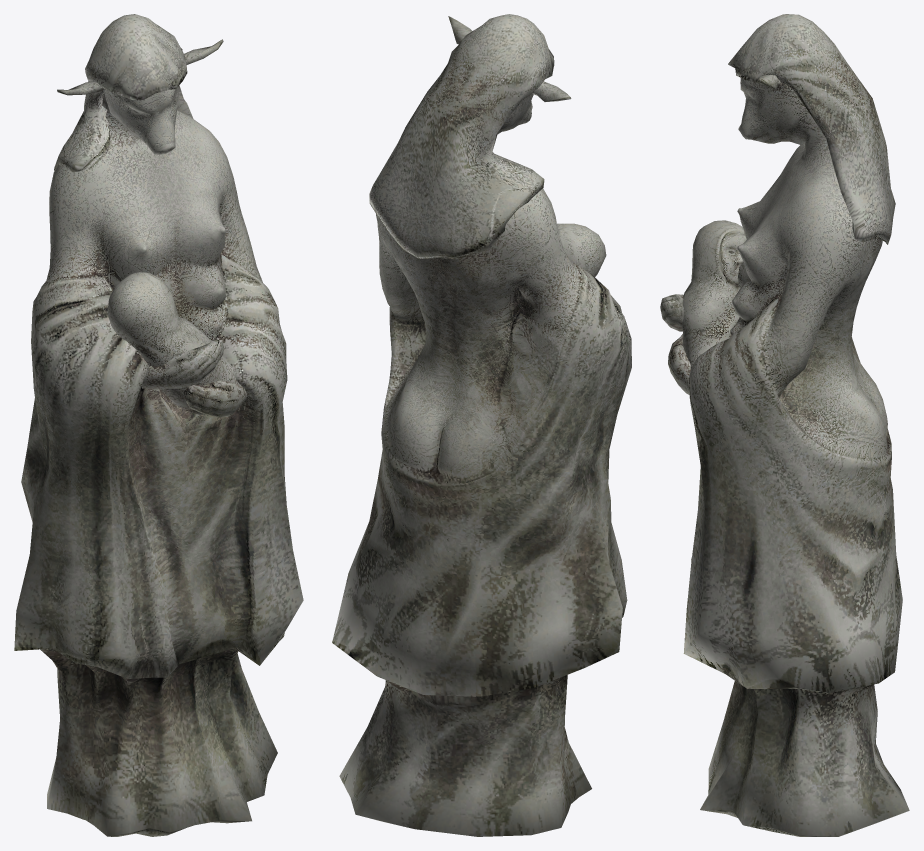
The model's file is pig_mary.DAE.
The picture shows the model from 3 angles, left to right: view 1: azimuth 30°, elevation 25°; view 2: azimuth 150°, elevation 25°; view 3: azimuth 270°, elevation 25°; orthographic projection. The views are drawn at different scales.
Parts seen in each view (by area): view 1: Group17563; view 2: Group17563; view 3: Group17563.
Boxes of the visible parts, x1,y1,x2,y2 form: Group17563: (14,14,303,836); Group17563: (332,14,631,836); Group17563: (660,14,909,836).
Size of the model in its own units: 0.8994 by 0.7567 by 2.57.
